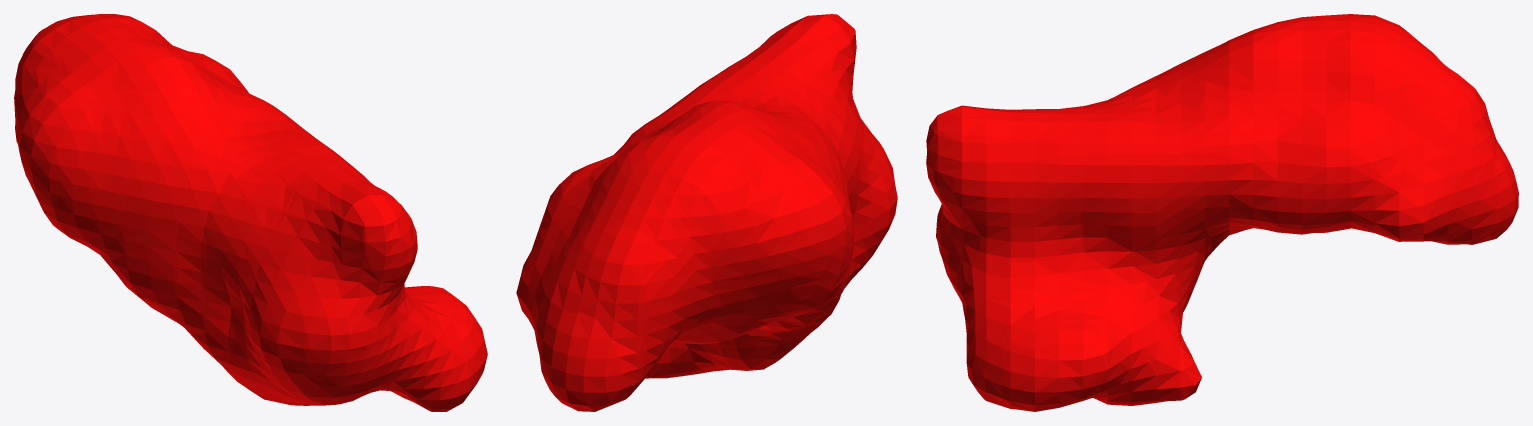
The model's file is ybjQ_coarse.dae.
The picture shows the model from 3 angles, left to right: view 1: azimuth 30°, elevation 25°; view 2: azimuth 150°, elevation 25°; view 3: azimuth 270°, elevation 25°; orthographic projection. The views are drawn at different scales.
Parts seen in each view (by area): view 1: ybjQ; view 2: ybjQ; view 3: ybjQ.
Part boxes in pixels (box(x1,y1,x2,y2)): ybjQ: box(14, 14, 487, 411); ybjQ: box(516, 14, 897, 411); ybjQ: box(926, 14, 1518, 411).
Size of the model in its own units: 38.47 by 35.83 by 59.84.
